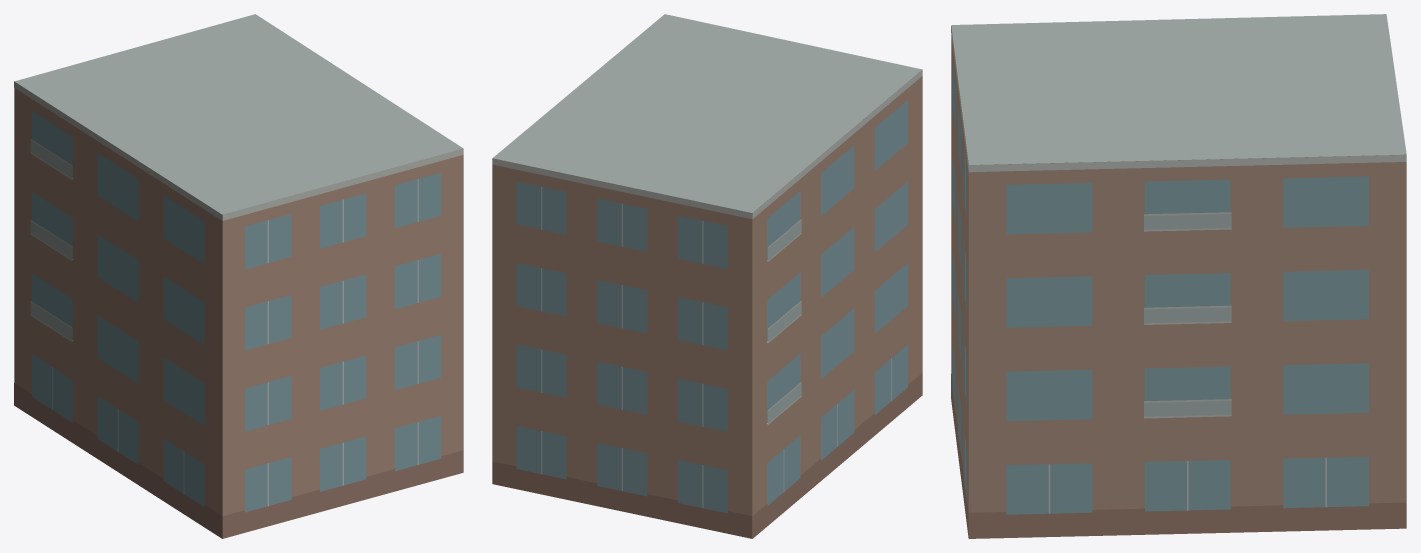
File: survey-upis-32882548.glb
3 views of the same model, side by side, from view 1: azimuth 30°, elevation 25°; view 2: azimuth 150°, elevation 25°; view 3: azimuth 270°, elevation 25° (orthographic). The views are drawn at different scales.
Parts seen in each view (by area): view 1: survey-upis-32882548.tmp; view 2: survey-upis-32882548.tmp; view 3: survey-upis-32882548.tmp.
Part boxes in pixels (x1,y1,x2,y2): survey-upis-32882548.tmp: (14, 14, 463, 538); survey-upis-32882548.tmp: (492, 14, 922, 538); survey-upis-32882548.tmp: (951, 14, 1406, 538).
Size of the model in its own units: 11.01 by 12.7 by 14.04.
